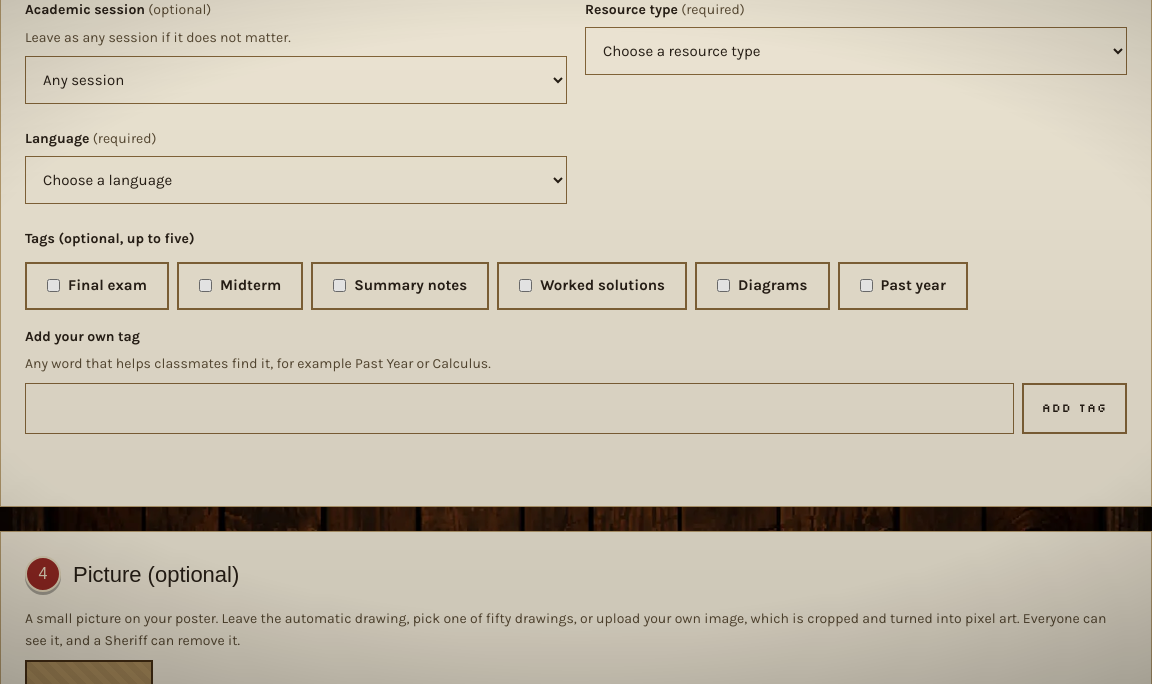
Test: the intake form › adds a member's own tag and ticks it
(page scrolled)
Step 1. Type "  Kalkulus   Lanjutan " into the field labelled "Add your own tag" → [519, 409], box [25,383,1014,434]
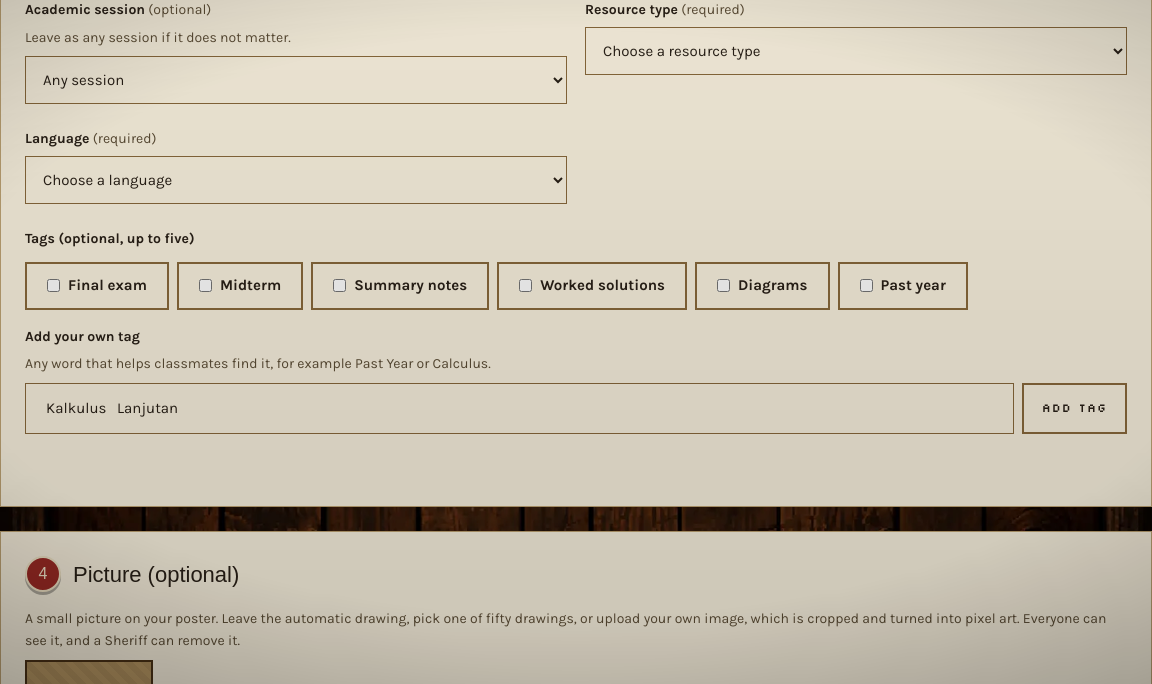
Step 2. Click the button "Add tag" → [1074, 409], box [1022,383,1127,434]
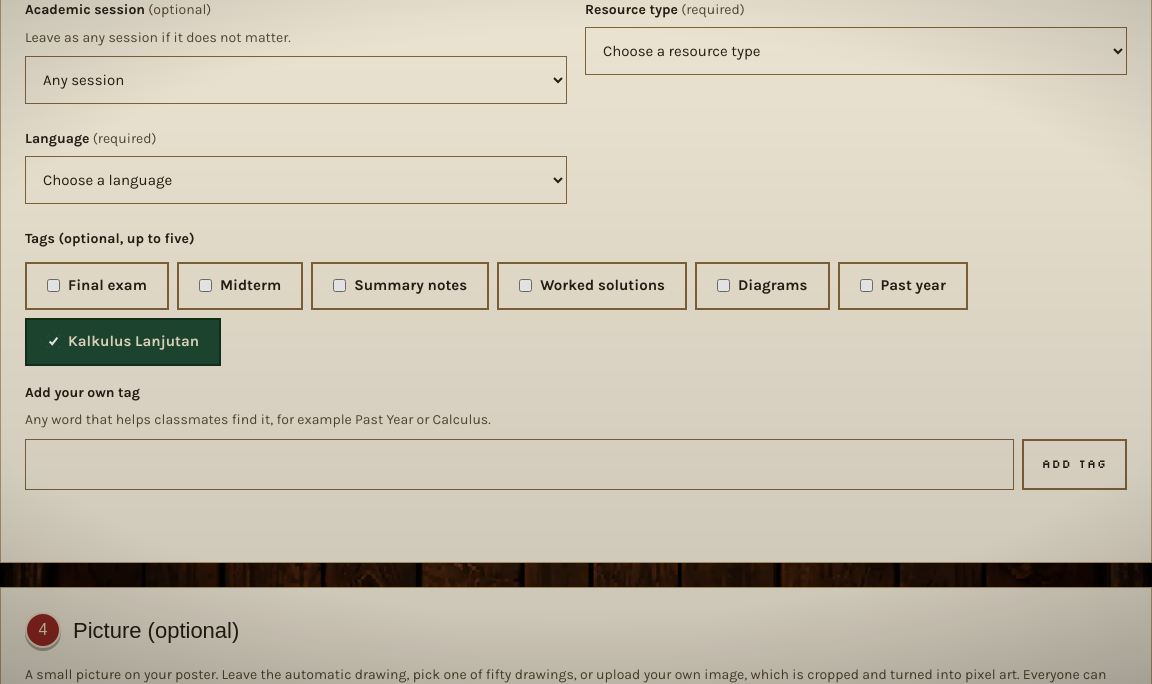
Expected: the field labelled "Add your own tag" is empty, [25,439,1014,490]
Now the checkbox labelled "Kalkulus Lanjutan" is checked, box [47,335,60,348]
